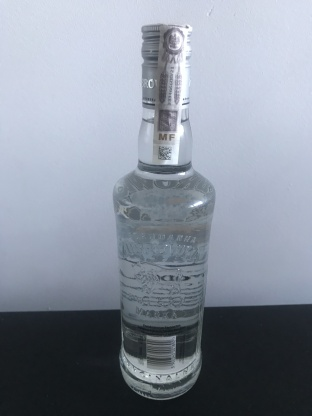nakretka: (138, 19, 195, 112)
